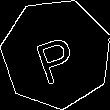P_N: (31, 24, 82, 84)
